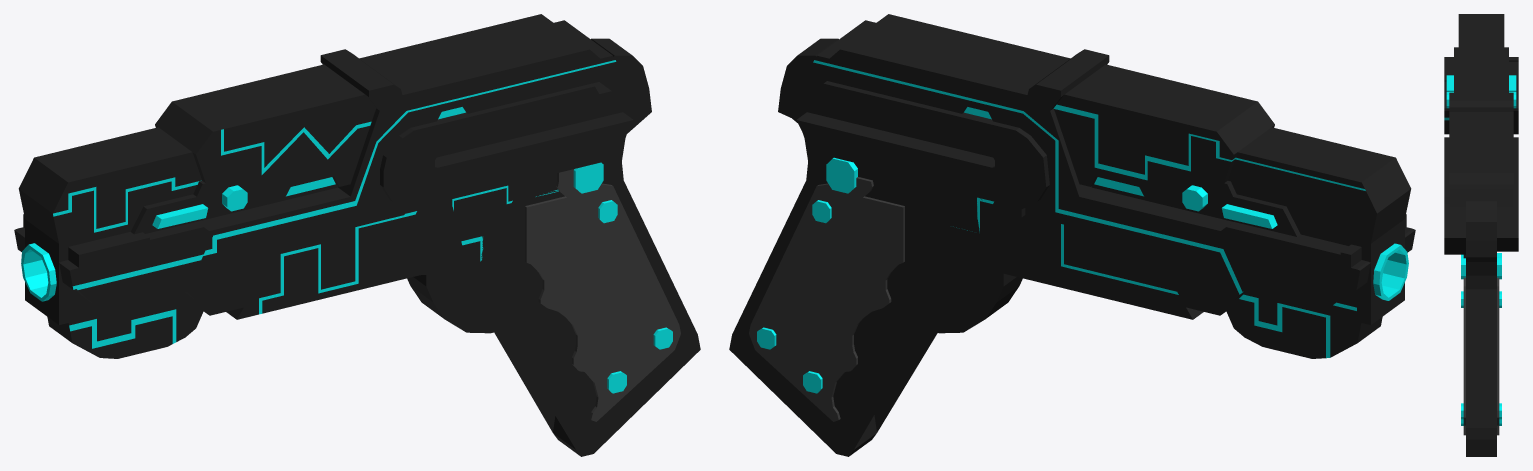
Rendered from pistola1.fbx.
The picture shows the model from 3 angles, left to right: view 1: azimuth 30°, elevation 25°; view 2: azimuth 150°, elevation 25°; view 3: azimuth 270°, elevation 25°; orthographic projection. The views are drawn at different scales.
Visible parts, largest first — view 1: Component_1_1; view 2: Component_1_1; view 3: Component_1_1.
Part boxes in pixels (x1,y1,x2,y2): Component_1_1: [14, 14, 700, 456]; Component_1_1: [729, 14, 1415, 456]; Component_1_1: [1444, 14, 1518, 456].
Bounding box in the file's own units: 2.1 × 1.32 × 0.31.
